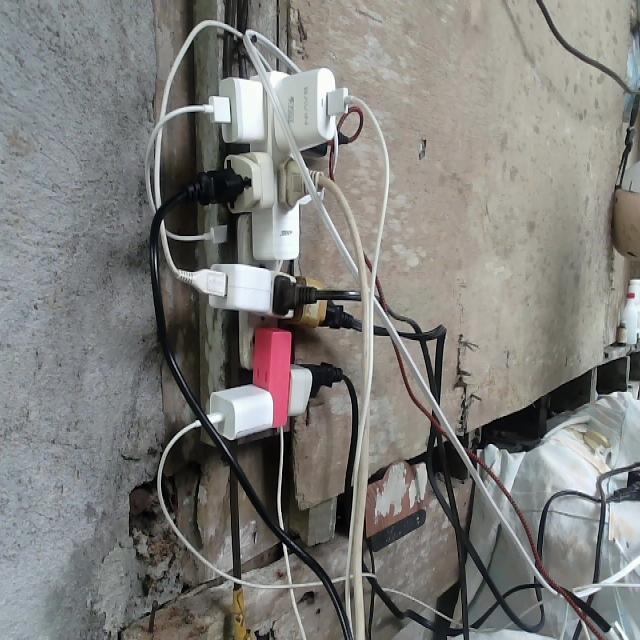-: (170, 68, 363, 440)
